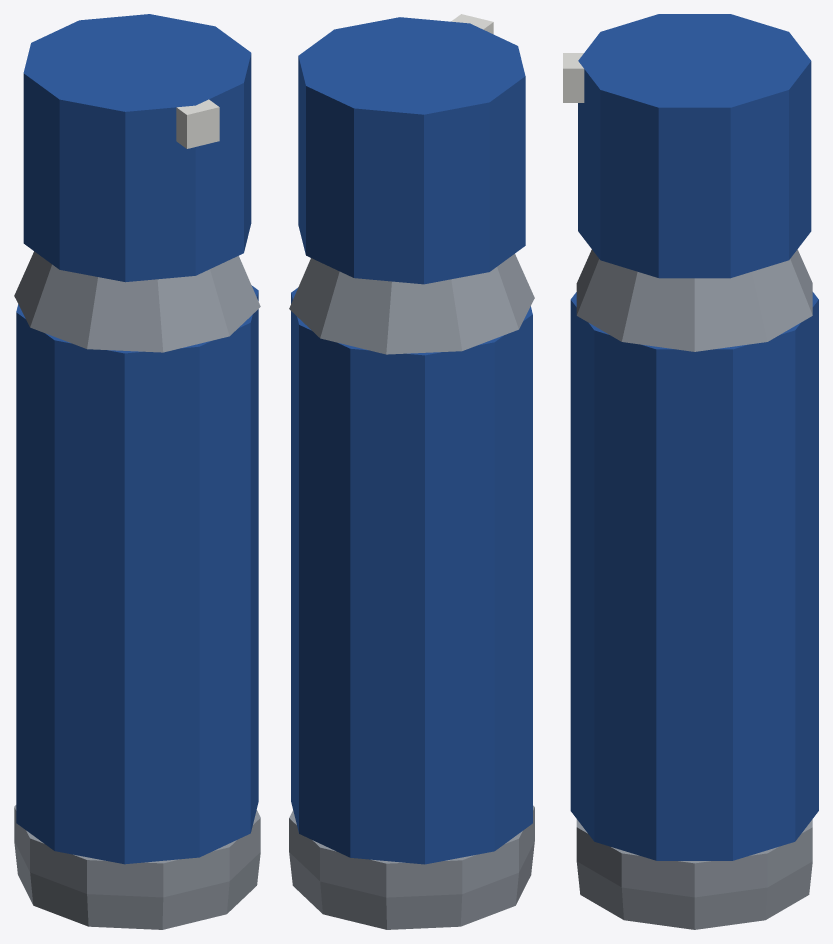
Rendered from Spray_Can.fbx.
The picture shows the model from 3 angles, left to right: view 1: azimuth 30°, elevation 25°; view 2: azimuth 150°, elevation 25°; view 3: azimuth 270°, elevation 25°; orthographic projection.
Visible parts, largest first — view 1: Spray_Can; view 2: Spray_Can; view 3: Spray_Can.
Part boxes in pixels (x1,y1,x2,y2): Spray_Can: (14,14,260,929); Spray_Can: (289,14,534,929); Spray_Can: (563,14,818,929).
Size of the model in its own units: 0.066 by 0.24 by 0.068.
Materials: 1 (1 with a texture image).
